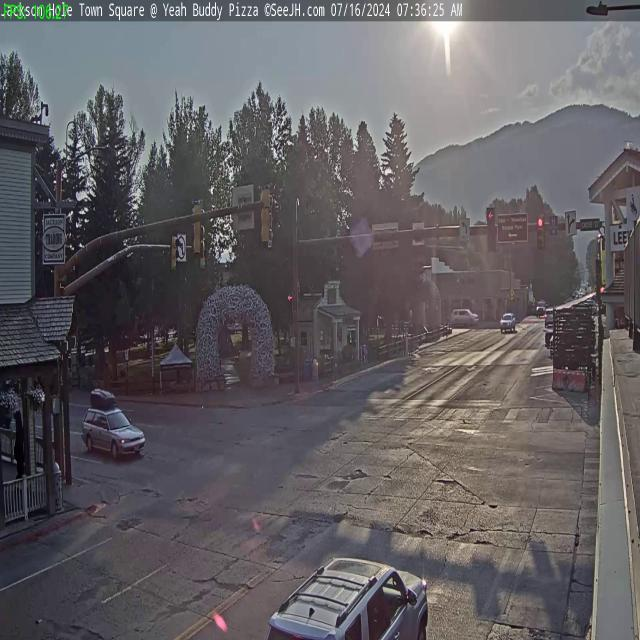suv: (262, 551, 433, 640), (84, 406, 144, 463), (500, 312, 516, 332)
traffic light: (260, 184, 272, 246), (191, 199, 203, 256), (487, 207, 496, 252), (170, 233, 179, 272), (536, 215, 544, 248)
